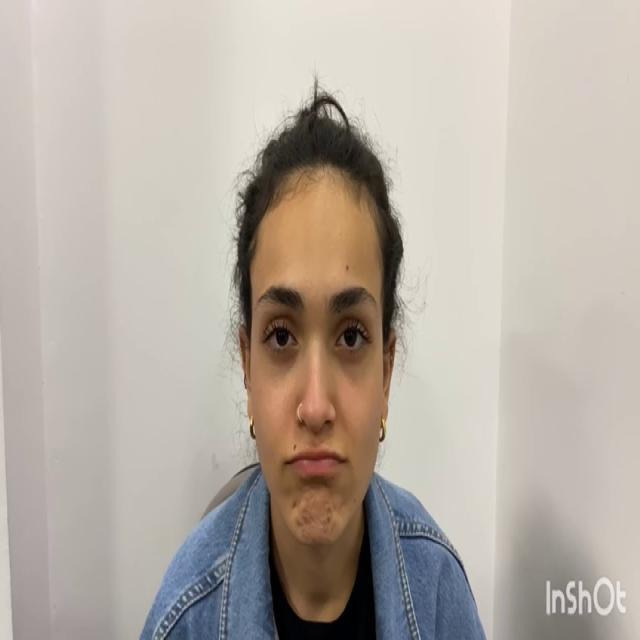natural: (242, 166, 387, 545)
